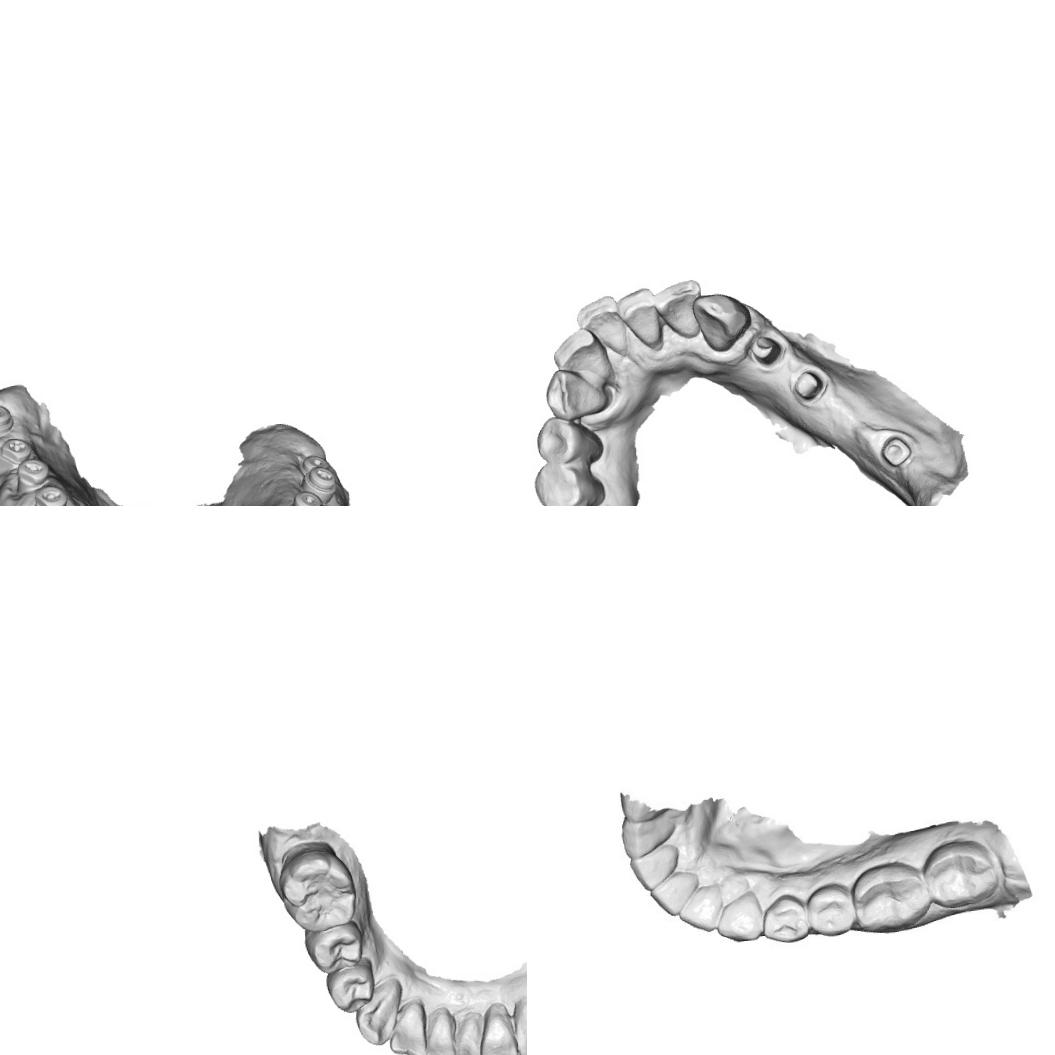abutment: (789, 364, 828, 405), (877, 430, 914, 470), (746, 331, 783, 371)
canine: (690, 289, 755, 354), (542, 364, 610, 422), (352, 976, 405, 1046), (712, 890, 770, 944), (512, 996, 527, 1055)
implant: (286, 488, 324, 506), (299, 452, 330, 473)
implant_minus: (299, 464, 340, 505), (13, 456, 51, 492), (30, 482, 69, 506), (0, 400, 15, 437)
implant_plus: (0, 431, 36, 471)
incisor: (548, 324, 614, 384), (650, 276, 704, 342), (572, 292, 629, 354), (612, 286, 664, 348), (386, 997, 428, 1055), (475, 999, 518, 1055), (618, 815, 676, 854), (420, 1005, 456, 1055), (649, 874, 692, 914), (682, 885, 720, 928), (451, 1009, 485, 1055), (632, 849, 671, 887)
molar: (275, 838, 358, 934), (920, 838, 1006, 908), (848, 860, 927, 934)
premolar: (532, 414, 604, 468), (303, 917, 364, 975), (530, 462, 607, 506), (802, 880, 858, 937), (324, 956, 375, 1014), (760, 892, 808, 948)
